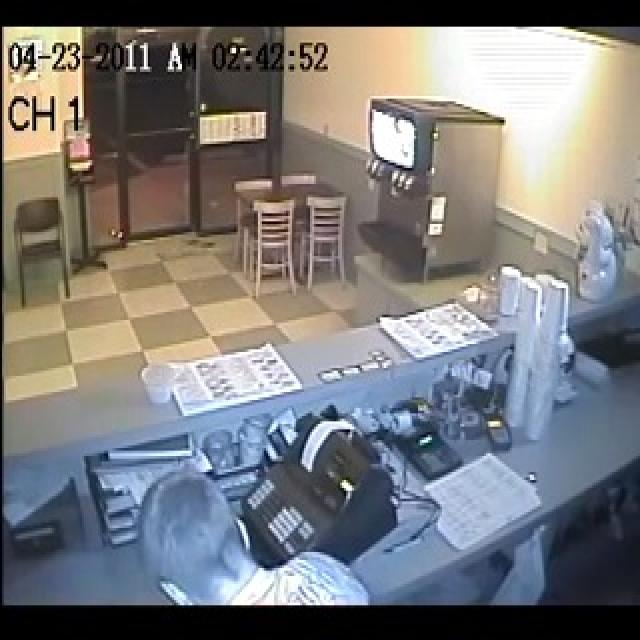thief: (115, 468, 379, 607)
